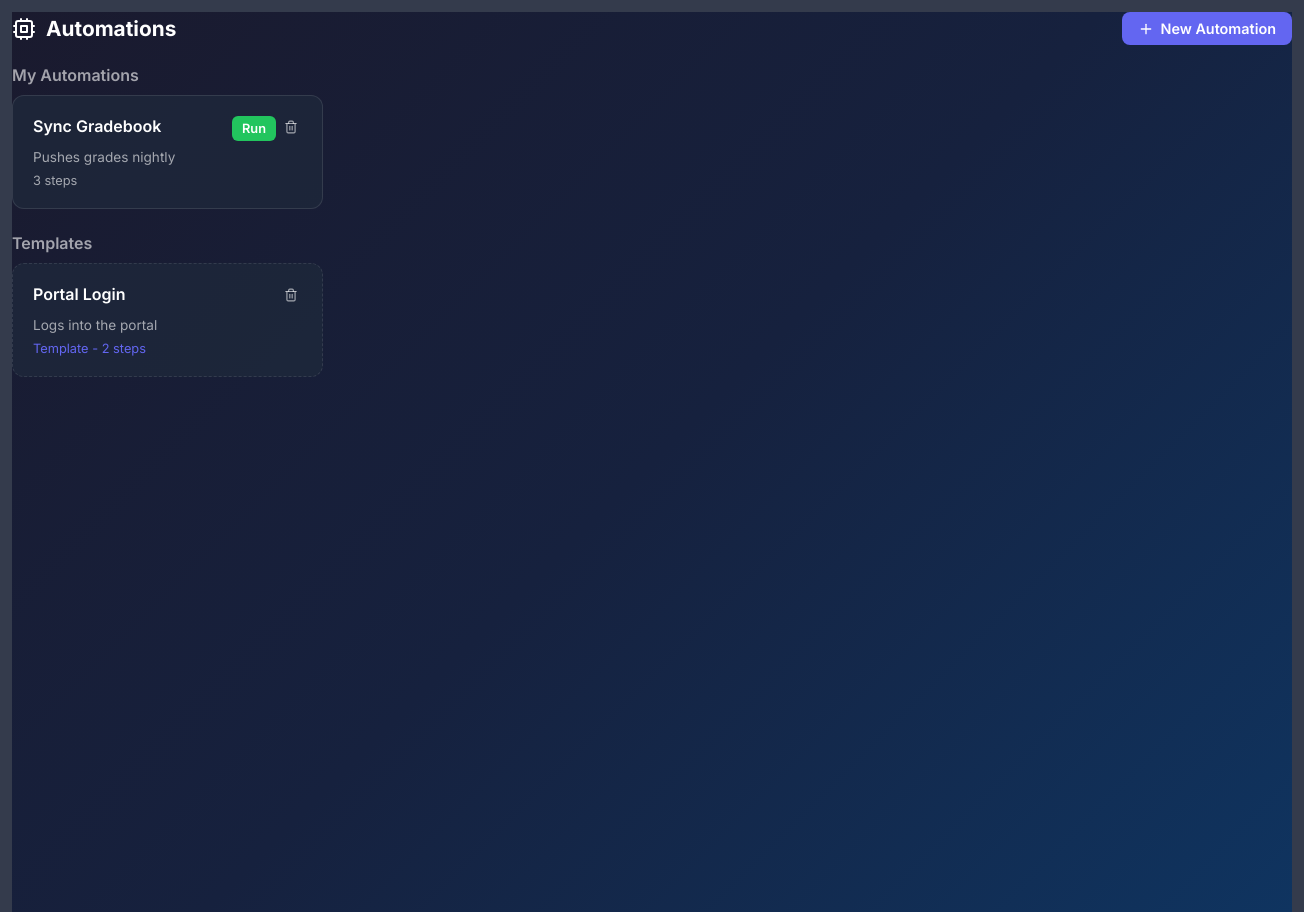
it: AutomationBuilder mounts with content from every extracted view › renders the run view after starting a workflow (AutomationRunView)
Expected: the text "Sync Gradebook" is shown, x1=33 y1=116 x2=161 y2=136
Click the button "Run".
click(254, 128)  # box x1=232 y1=116 x2=276 y2=141
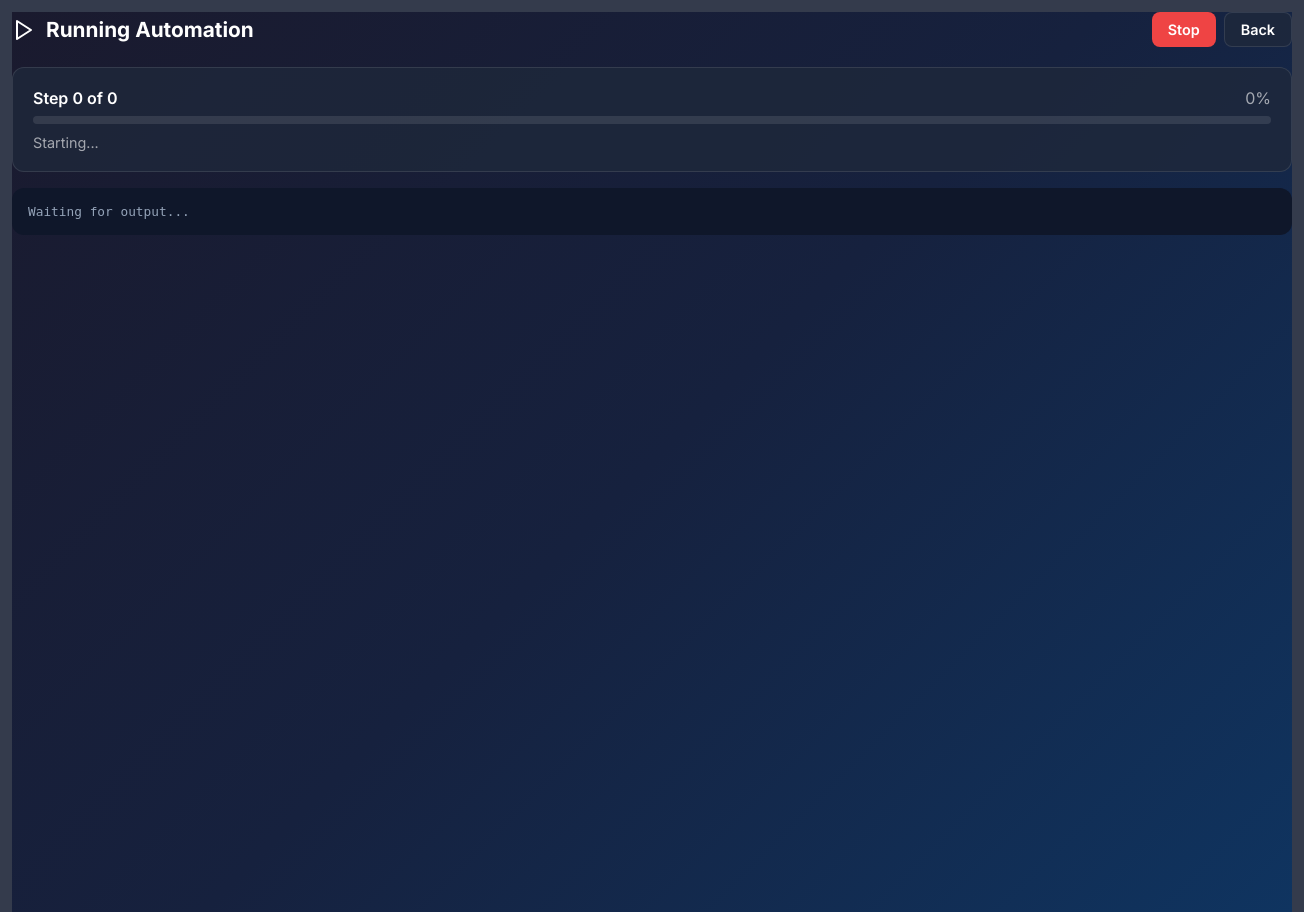
Result: the heading "Running Automation" is shown at x1=12 y1=17 x2=254 y2=42
Result: the button "Stop" is shown at x1=1152 y1=12 x2=1216 y2=47
Result: the button "Back" is shown at x1=1224 y1=12 x2=1292 y2=47
